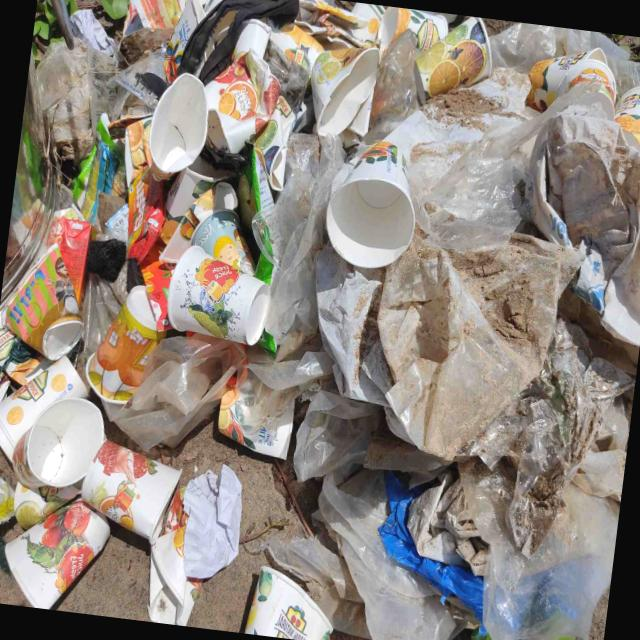bao_bi_thuc_pham: (124, 117, 164, 263), (130, 0, 180, 27)
giay: (182, 465, 241, 579)
ly_hop_giay: (326, 139, 414, 267), (4, 501, 108, 609), (166, 245, 269, 345), (80, 441, 180, 543), (2, 245, 82, 360), (85, 285, 160, 405), (0, 356, 86, 460), (11, 397, 102, 489), (205, 49, 279, 152), (244, 568, 332, 640), (148, 72, 207, 178), (310, 46, 379, 135), (415, 16, 492, 95), (526, 46, 617, 110), (44, 212, 90, 305), (191, 209, 254, 275), (378, 6, 448, 53), (615, 85, 640, 148)
nhua: (315, 234, 577, 460), (398, 22, 640, 251), (468, 319, 634, 557), (459, 458, 619, 640), (526, 113, 640, 347), (318, 466, 455, 640), (252, 134, 343, 359), (112, 333, 244, 450), (266, 537, 370, 639), (293, 391, 381, 481), (35, 37, 92, 163), (364, 28, 418, 143), (75, 273, 120, 376), (245, 351, 333, 390)
